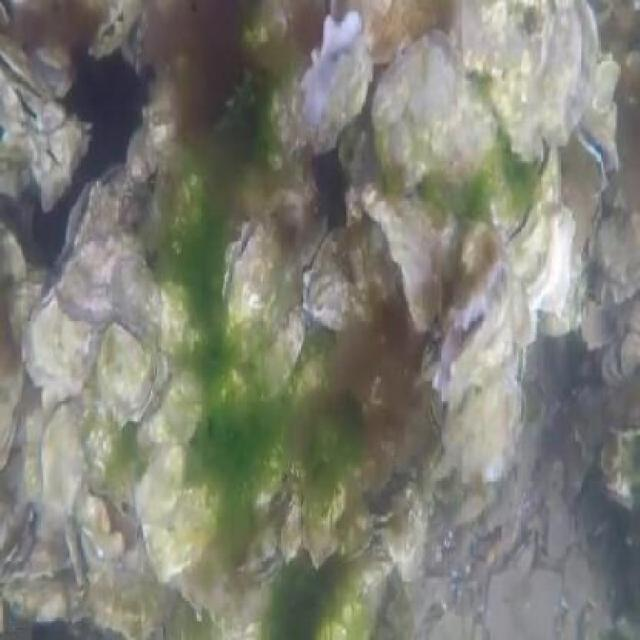Oyster- Indeterminate: (372, 36, 493, 175), (77, 324, 194, 437), (443, 382, 529, 495), (296, 232, 381, 324), (26, 292, 96, 403), (447, 0, 554, 72), (150, 488, 225, 573), (6, 566, 94, 636), (92, 582, 184, 640), (147, 275, 209, 361), (128, 447, 192, 522), (593, 208, 640, 305), (145, 376, 203, 454), (44, 404, 84, 516), (316, 413, 378, 485), (163, 174, 208, 268), (118, 115, 170, 191), (599, 431, 640, 508), (44, 116, 101, 168), (332, 494, 373, 554), (277, 497, 308, 572), (306, 508, 339, 573), (256, 442, 284, 509), (307, 477, 345, 518)
Oyster-Closed: (311, 570, 388, 640)
Oyster-Open: (215, 211, 324, 337), (436, 276, 526, 406), (284, 16, 366, 139), (62, 164, 154, 245), (68, 0, 148, 62), (62, 512, 122, 586), (571, 119, 625, 198), (239, 510, 288, 592), (33, 40, 78, 102), (0, 42, 40, 89), (605, 331, 640, 377), (12, 88, 40, 123), (0, 0, 14, 29)
